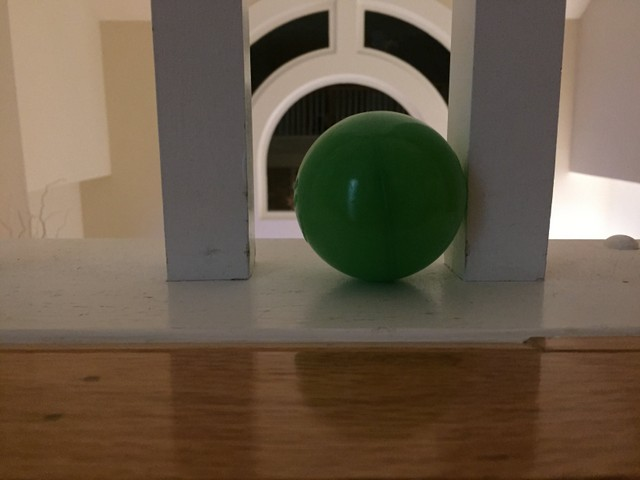Ball: (297, 112, 467, 288)
